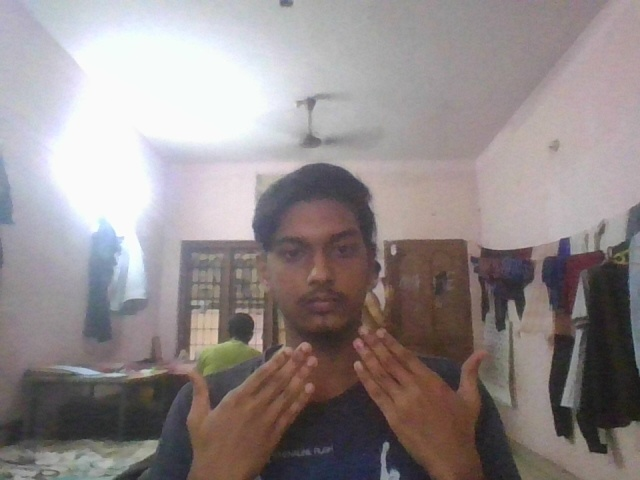thankyou: (185, 324, 487, 463)
